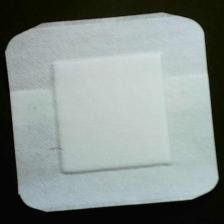Dressing: (4, 13, 222, 214)
F_Body: (41, 138, 73, 164)
